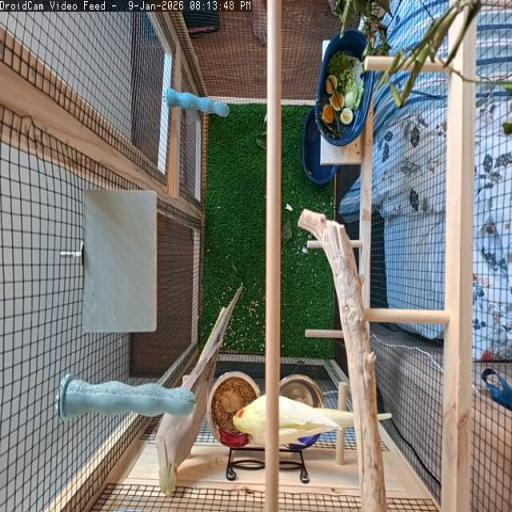bebedero: (280, 374, 326, 407), (290, 434, 319, 448)
comedero: (208, 371, 260, 447)
ninfa: (157, 287, 241, 494), (279, 396, 354, 443), (235, 396, 266, 442)
